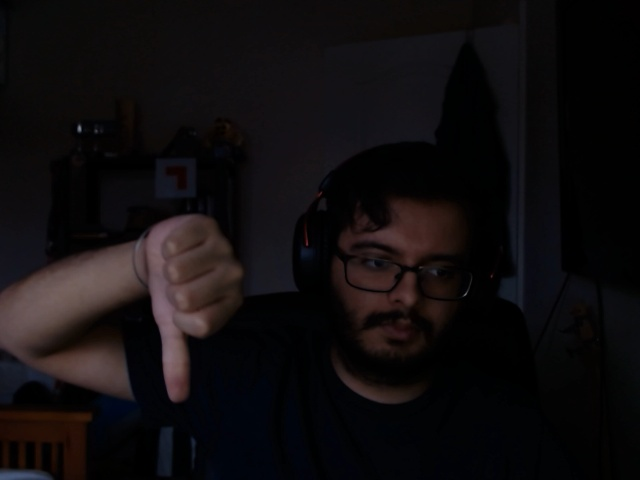Thumbs down: (142, 203, 245, 428)
